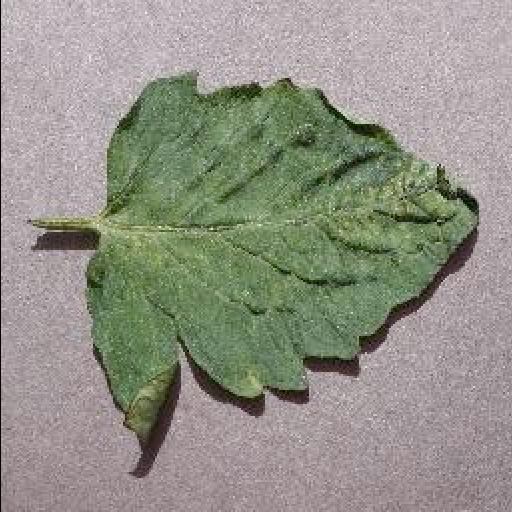disease_tomato: (83, 74, 481, 480)
